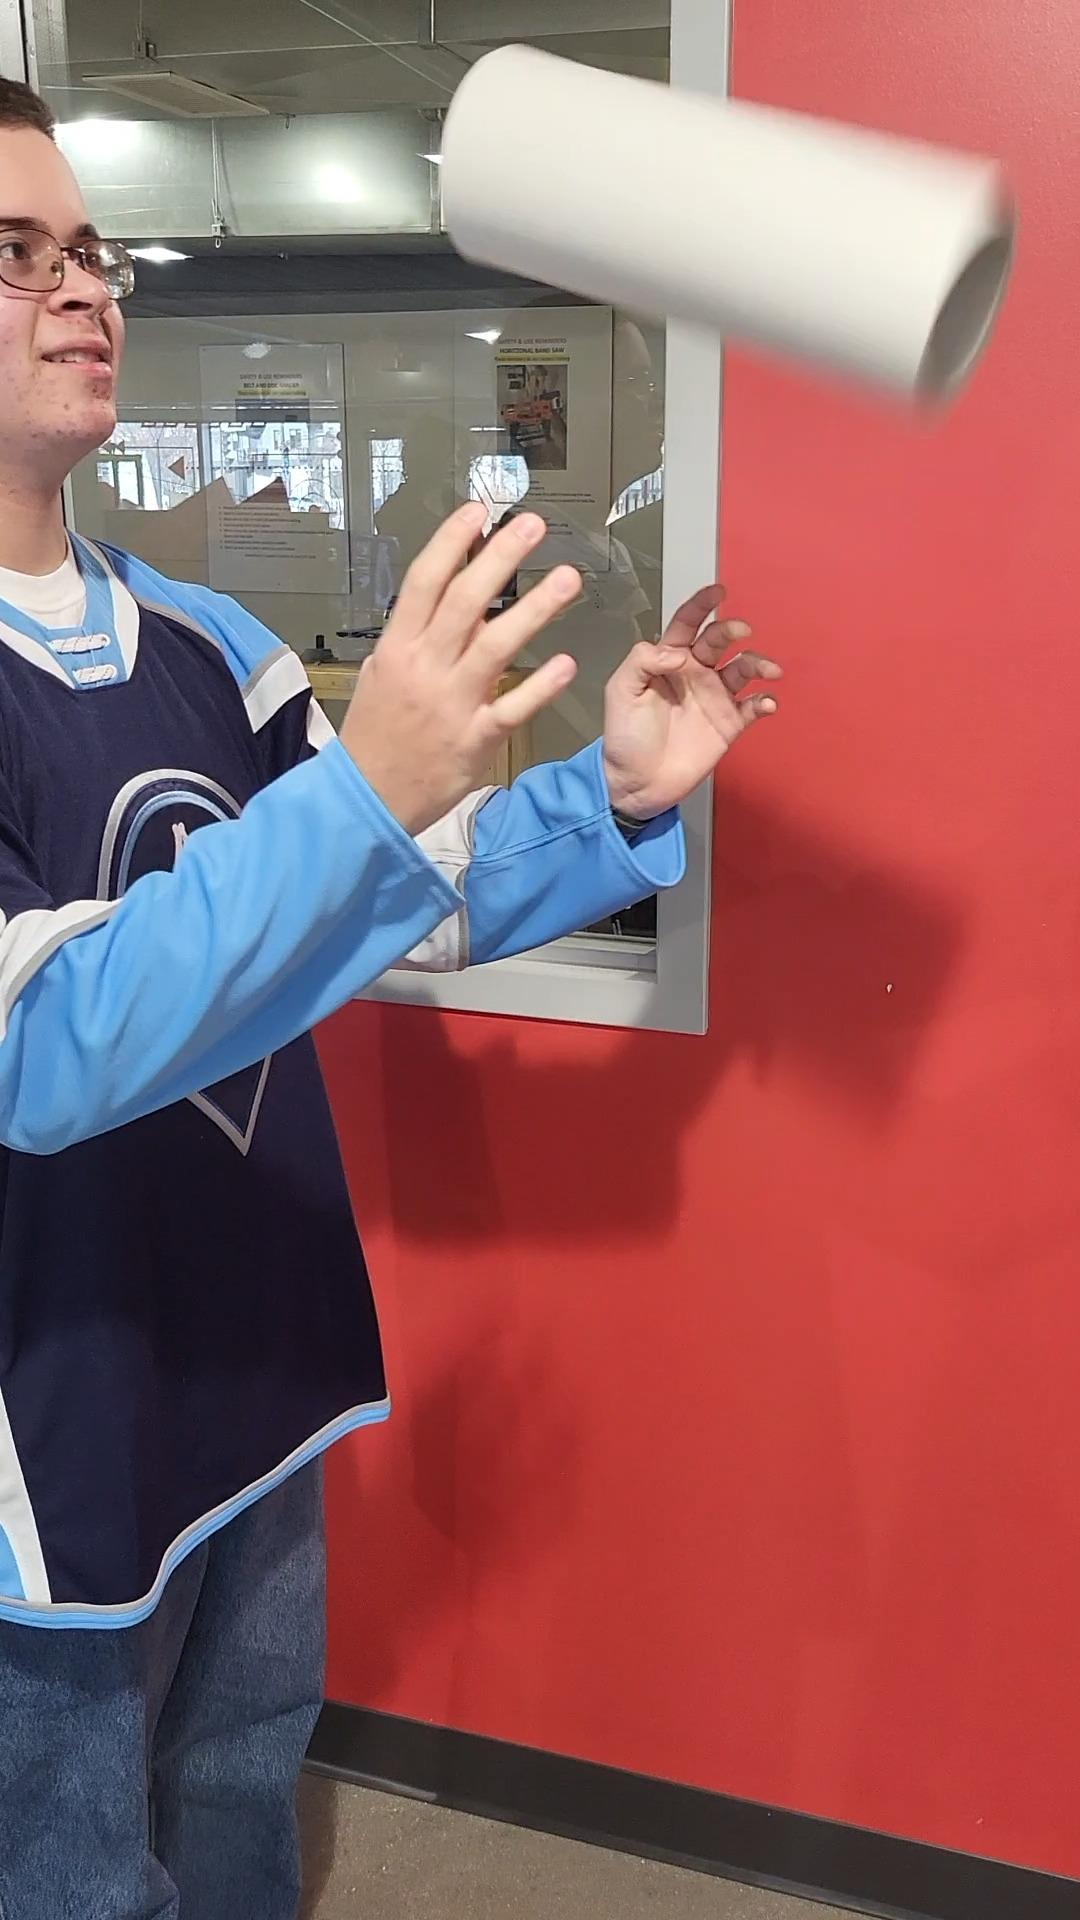coral: (443, 47, 1021, 417)
